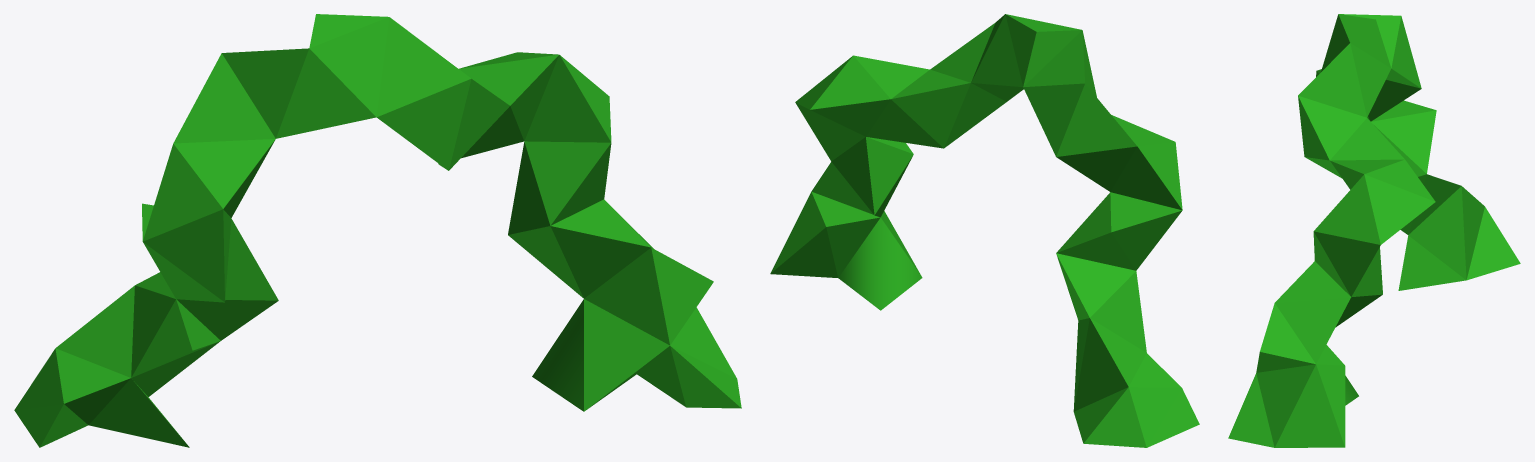
File: Obstacle6.FBX
3 renders of one model, left to right at view 1: azimuth 30°, elevation 25°; view 2: azimuth 150°, elevation 25°; view 3: azimuth 270°, elevation 25°, orthographic. The views are drawn at different scales.
Visible parts, largest first — view 1: Obstacle6; view 2: Obstacle6; view 3: Obstacle6.
Boxes of the visible parts, bbox=[...] form: Obstacle6: bbox=[14, 14, 741, 447]; Obstacle6: bbox=[770, 14, 1199, 447]; Obstacle6: bbox=[1228, 14, 1520, 447].
Size of the model in its own units: 416 by 280 by 238.
